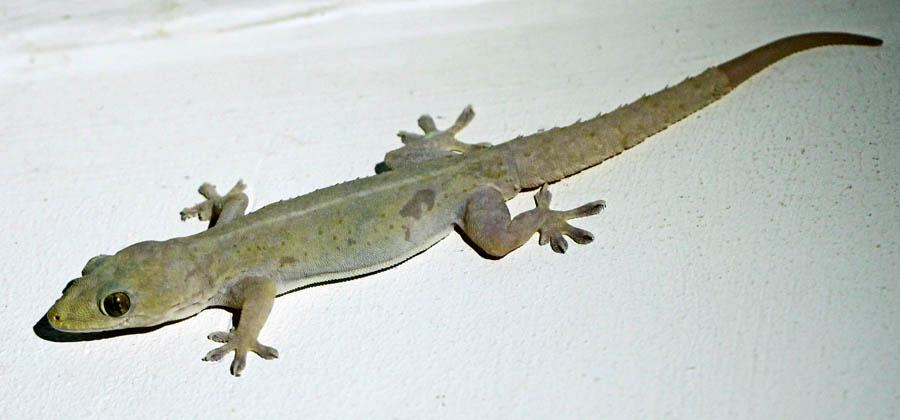lizard: (32, 17, 885, 377)
